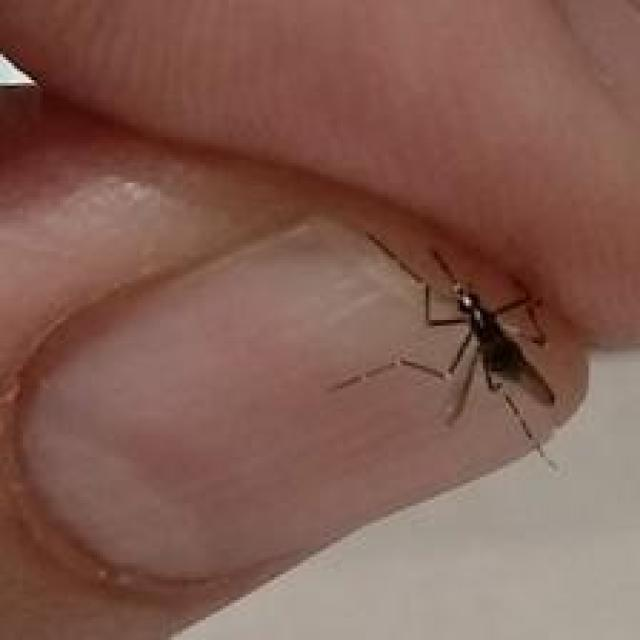Aedes albopictus: (327, 230, 564, 473)
